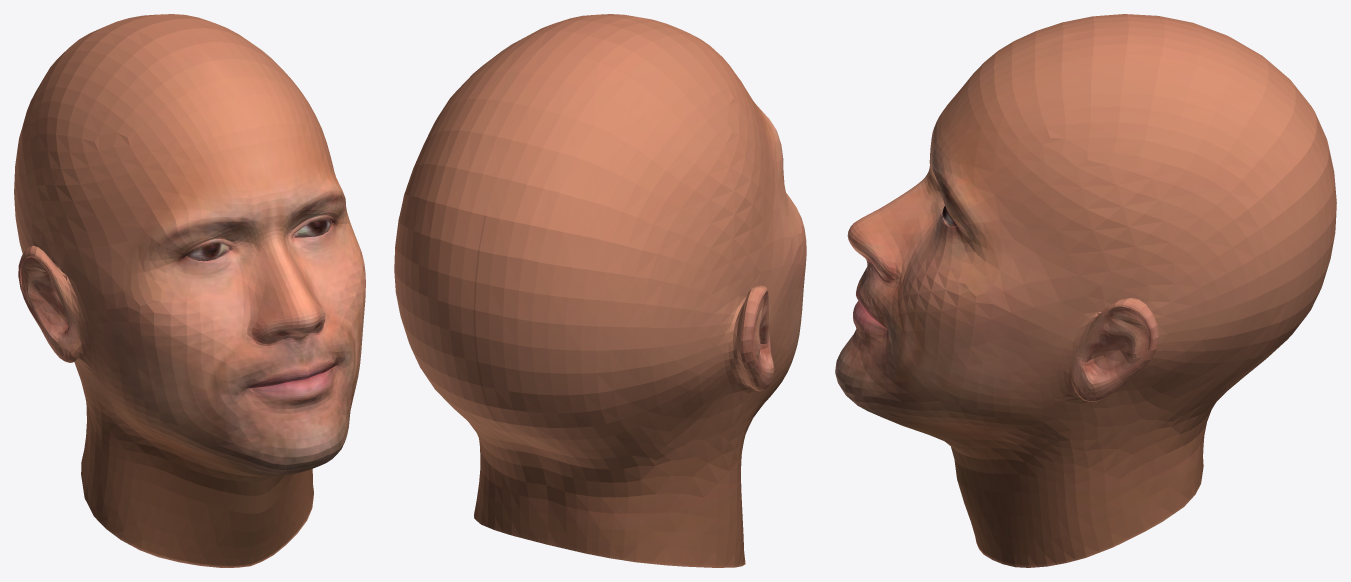
File: TheRock2.obj
3 renders of one model, left to right at view 1: azimuth 30°, elevation 25°; view 2: azimuth 150°, elevation 25°; view 3: azimuth 270°, elevation 25°, orthographic. The views are drawn at different scales.
Parts seen in each view (by area): view 1: skin_hi, eyeR_hi, eyeL_hi; view 2: skin_hi; view 3: skin_hi.
Boxes of the visible parts, bbox=[...] form: skin_hi: bbox=[14, 14, 365, 567]; eyeR_hi: bbox=[186, 242, 229, 261]; eyeL_hi: bbox=[293, 218, 331, 237]; skin_hi: bbox=[394, 14, 806, 567]; skin_hi: bbox=[835, 14, 1336, 567].
Size of the model in its own units: 184 by 281 by 247.
Materials: 7 (7 with a texture image).
